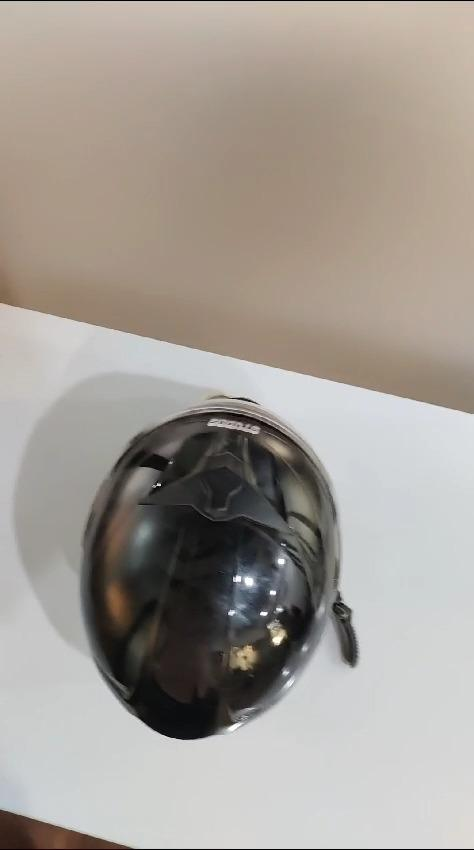Helmet: (78, 388, 351, 756)
